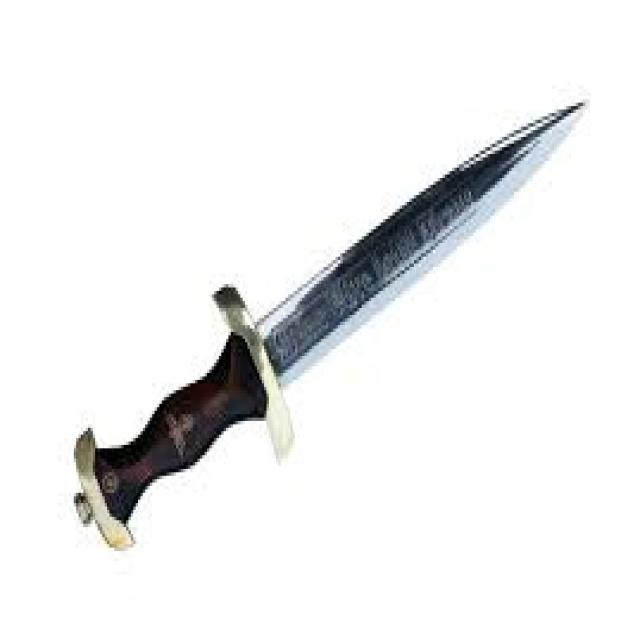knives: (67, 89, 590, 554)
